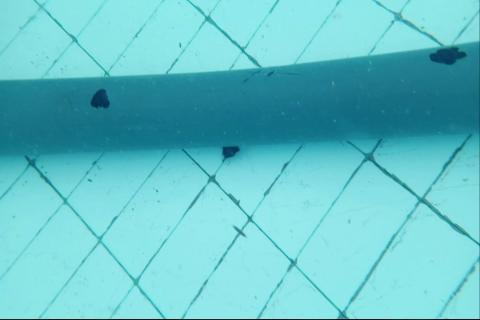kebocoran: (429, 46, 466, 66), (90, 86, 111, 111)
keretakan: (235, 68, 302, 83)
